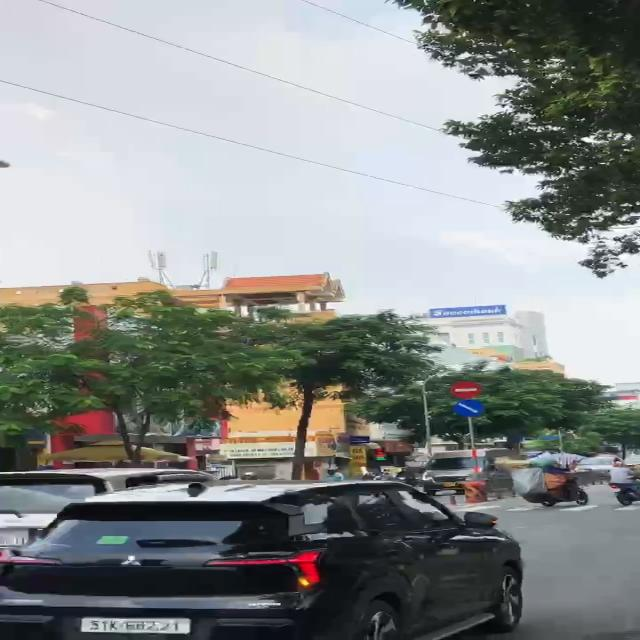Bien bao cam di nguoc chieu: (449, 380, 481, 398)
Bien bao huong phai di vong chuong ngai vat: (448, 399, 490, 418)
